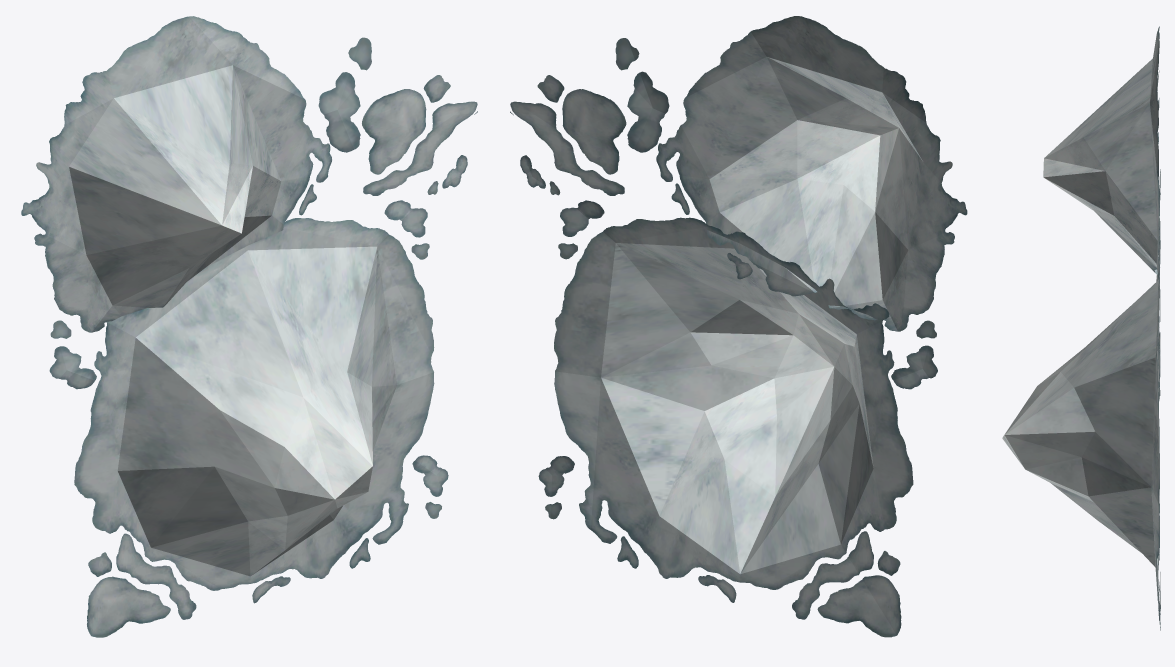
The model's file is shengdan_xuedui_03.obj.
3 renders of one model, left to right at view 1: azimuth 30°, elevation 25°; view 2: azimuth 150°, elevation 25°; view 3: azimuth 270°, elevation 25°, orthographic. The views are drawn at different scales.
Visible parts, largest first — view 1: shengdan_xuedui_03; view 2: shengdan_xuedui_03; view 3: shengdan_xuedui_03.
Boxes of the visible parts, bbox=[...] form: shengdan_xuedui_03: bbox=[21, 16, 477, 637]; shengdan_xuedui_03: bbox=[510, 16, 967, 637]; shengdan_xuedui_03: bbox=[1002, 26, 1160, 630].
Size of the model in its own units: 167 by 210 by 56.57.
1 material, 1 textured.
